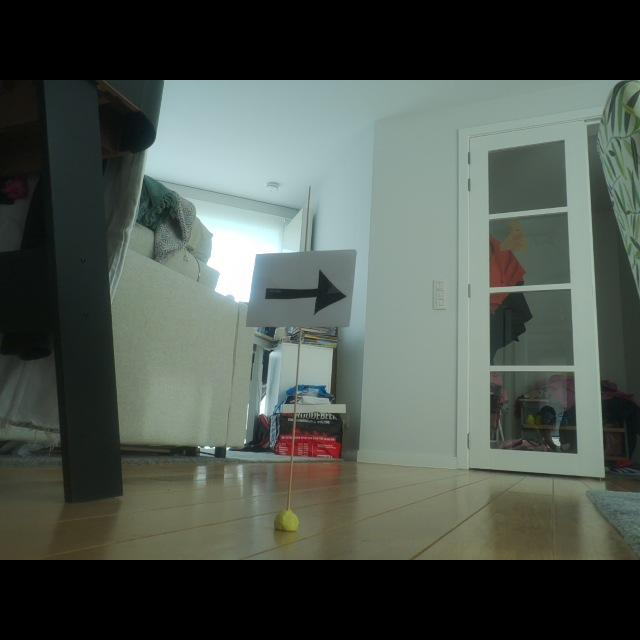jobbra_nyil: (266, 270, 345, 313)
